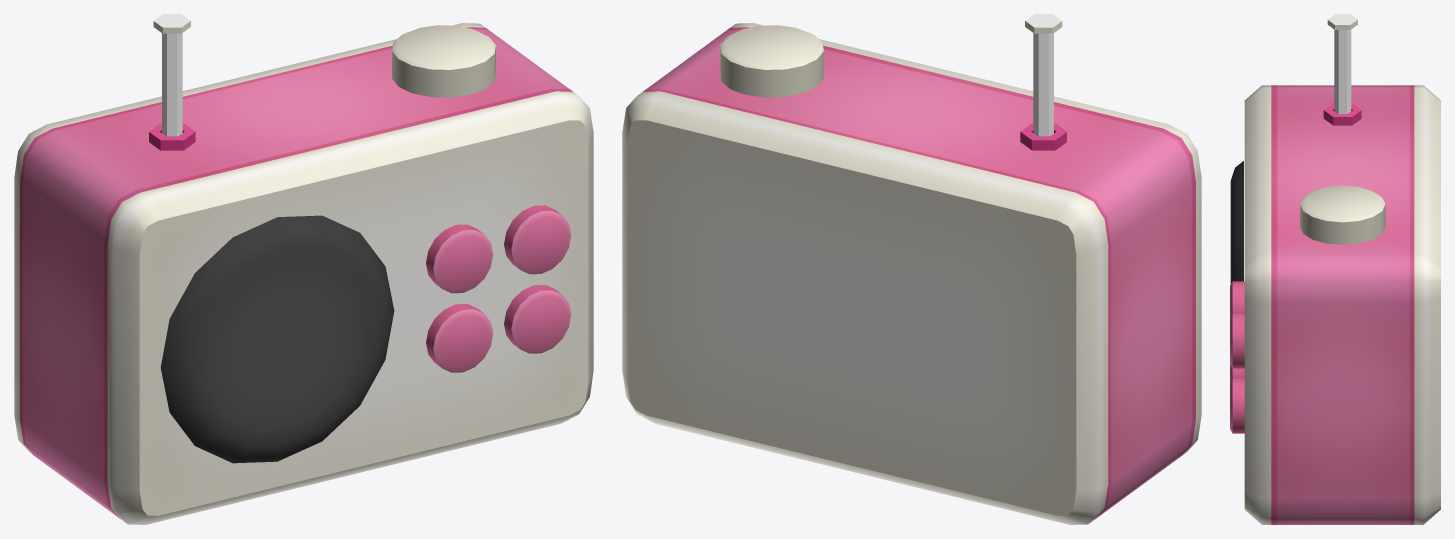
The model's file is radio.FBX.
The picture shows the model from 3 angles, left to right: view 1: azimuth 30°, elevation 25°; view 2: azimuth 150°, elevation 25°; view 3: azimuth 270°, elevation 25°; orthographic projection. The views are drawn at different scales.
Parts seen in each view (by area): view 1: radio; view 2: radio; view 3: radio.
Part boxes in pixels (x1=…): radio: x1=14, y1=14, x2=593, y2=524; radio: x1=622, y1=14, x2=1201, y2=524; radio: x1=1230, y1=14, x2=1440, y2=524.
Bounding box in the file's own units: 40 × 35.78 × 18.64.
